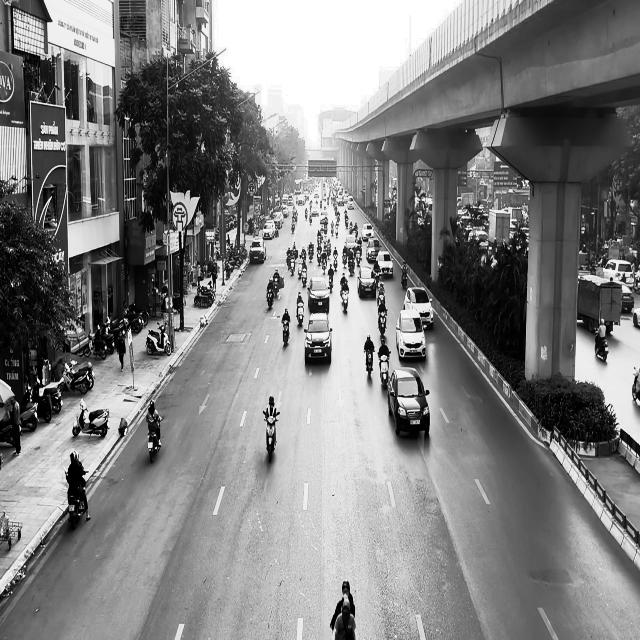car: (387, 367, 430, 437), (396, 308, 426, 360), (304, 312, 332, 364), (403, 286, 434, 329), (307, 276, 330, 312)
motorbike: (63, 467, 87, 529), (72, 398, 109, 438), (146, 321, 172, 356), (262, 410, 279, 462), (147, 417, 162, 462), (378, 349, 390, 388), (594, 329, 608, 362), (632, 366, 640, 405), (364, 348, 374, 377), (281, 319, 290, 347), (378, 308, 387, 336), (340, 286, 349, 312), (296, 302, 304, 326), (401, 264, 408, 288)
